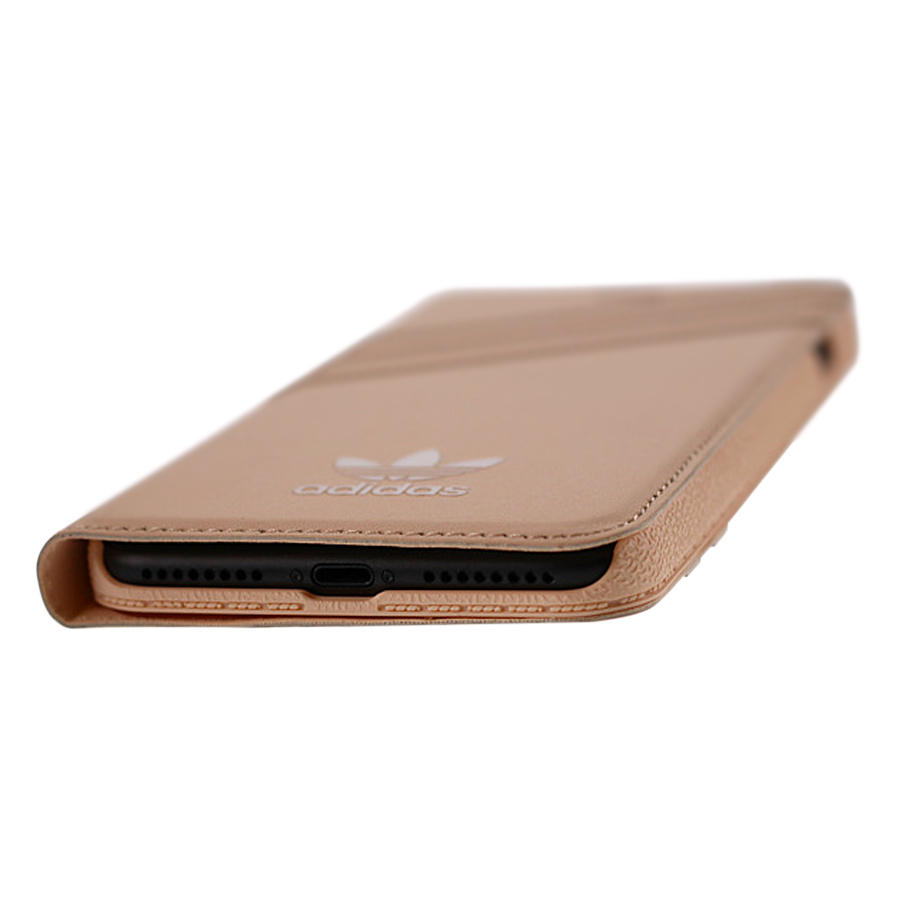Adidas: (290, 443, 512, 499)
